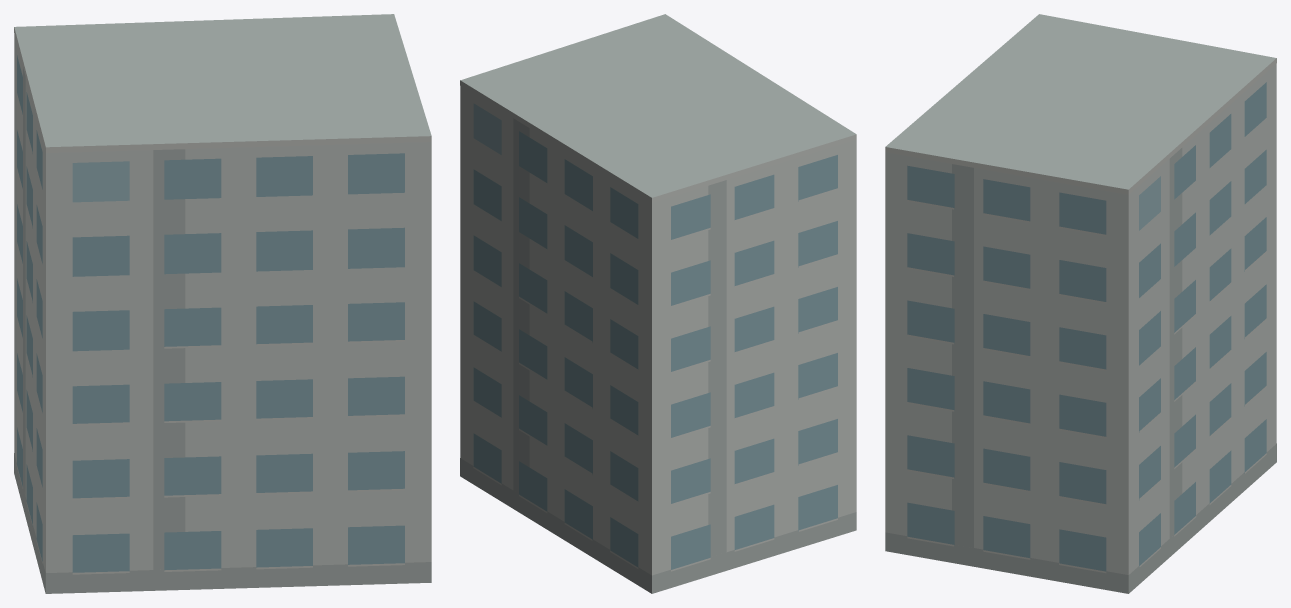
File: survey-upis-32917545.glb
3 views of the same model, side by side, from view 1: azimuth 30°, elevation 25°; view 2: azimuth 150°, elevation 25°; view 3: azimuth 270°, elevation 25° (orthographic). The views are drawn at different scales.
Visible parts, largest first — view 1: survey-upis-32917545.tmp; view 2: survey-upis-32917545.tmp; view 3: survey-upis-32917545.tmp.
Part boxes in pixels (left/top/right/bottom): survey-upis-32917545.tmp: left=14, top=14, right=431, bottom=593; survey-upis-32917545.tmp: left=460, top=14, right=856, bottom=593; survey-upis-32917545.tmp: left=885, top=14, right=1276, bottom=593.
Size of the model in its own units: 17.06 by 18.3 by 16.07.
